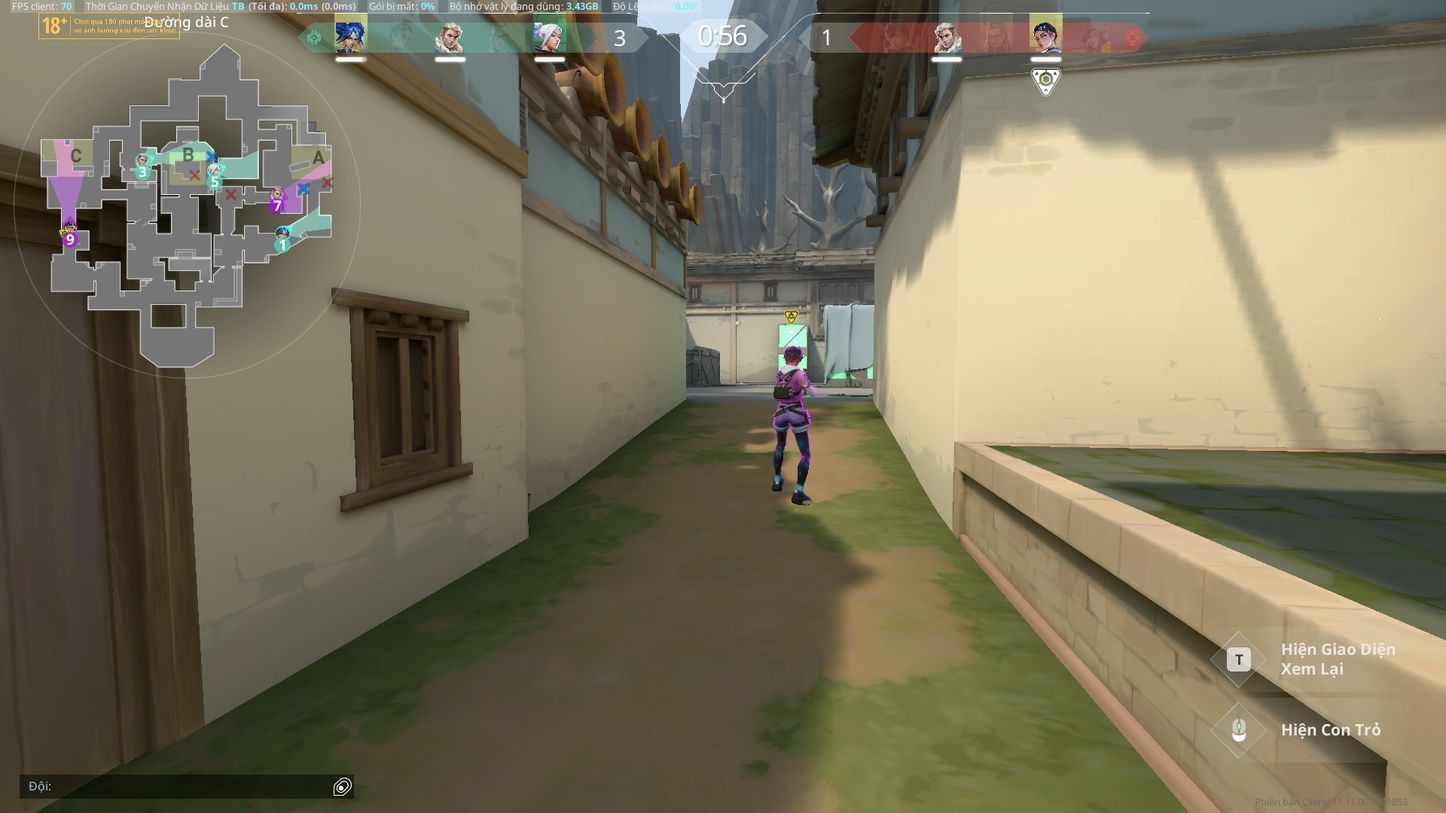body: (775, 367, 808, 399)
head: (782, 343, 804, 367)
